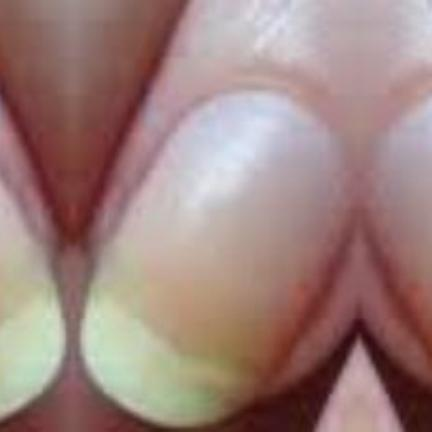Nail: (77, 88, 356, 430), (360, 98, 432, 361), (0, 173, 67, 419)
